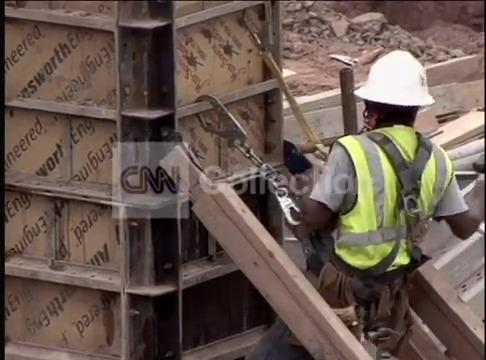Helmet: (363, 53, 435, 113)
Person: (269, 47, 485, 346)
Safety Vest: (329, 135, 436, 264)
